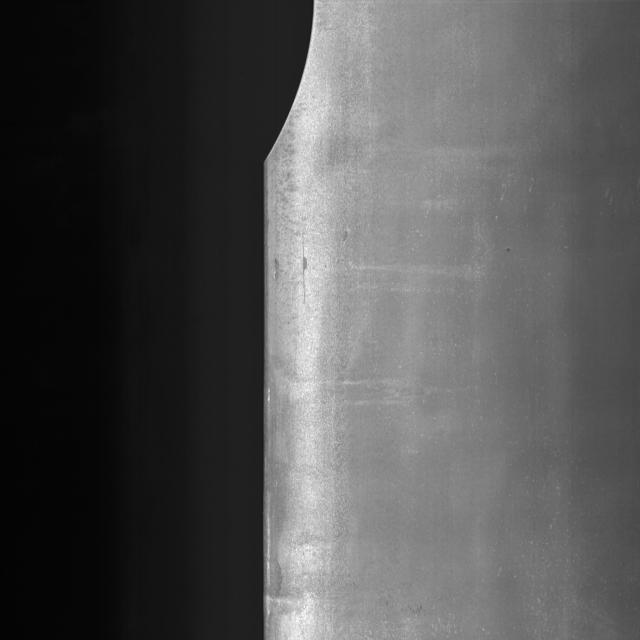silk_spot: (248, 1, 320, 171)
